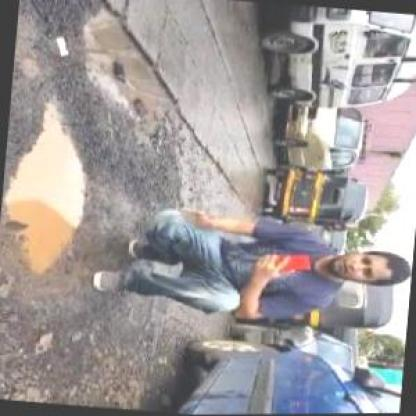pothole: (0, 97, 100, 282), (75, 3, 184, 141)
